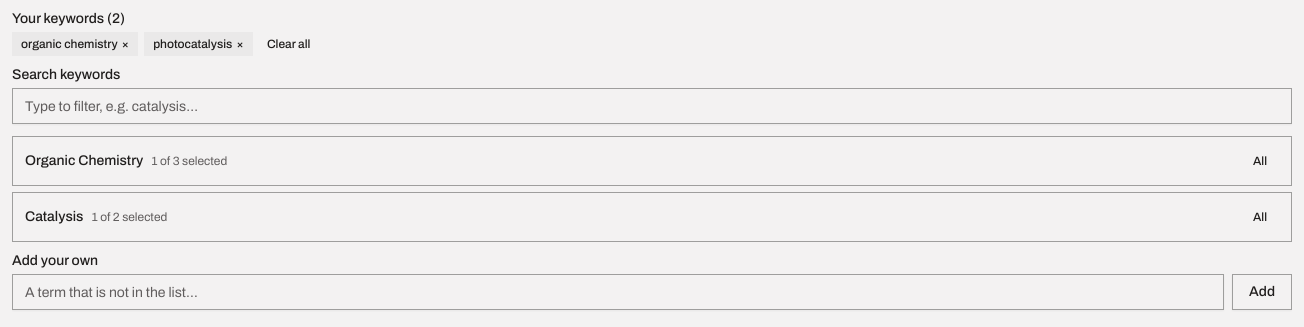
Scenario: KeywordPicker › clears the whole selection
Click the button "Clear all". click: (289, 44)
box: [259, 32, 318, 56]
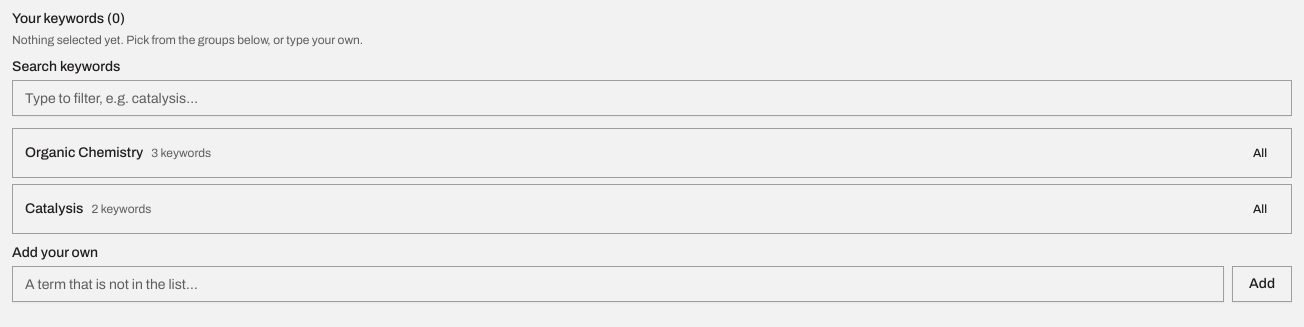
Check: the text "Your keywords (0)" is shown, box [12, 11, 125, 26]
